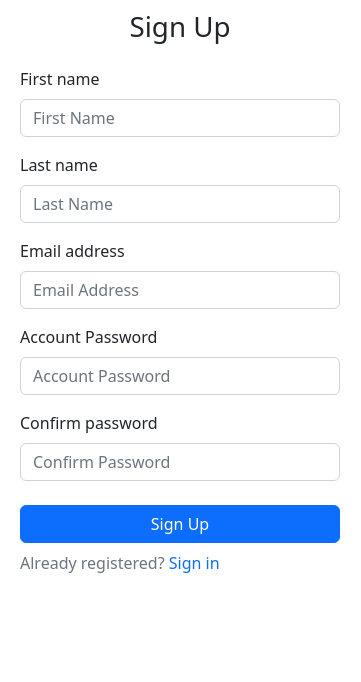
Testing SignUp component › Testing when typing a not valid Password it should shows 'Password should ...'
Type "blabla" into the password field with placeholder "Account Password" at (180, 376), box [20,357,340,395]
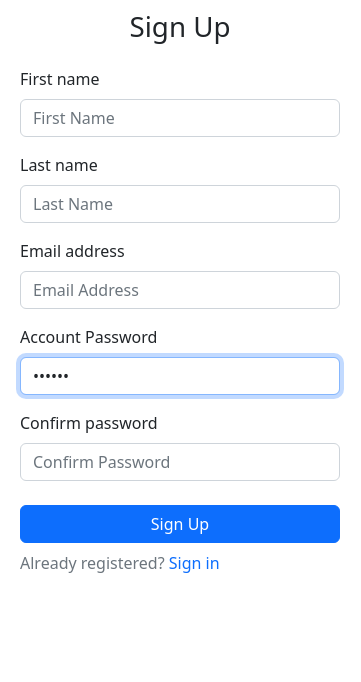
Click the button "Sign Up" at (180, 524), box [20,505,340,543]
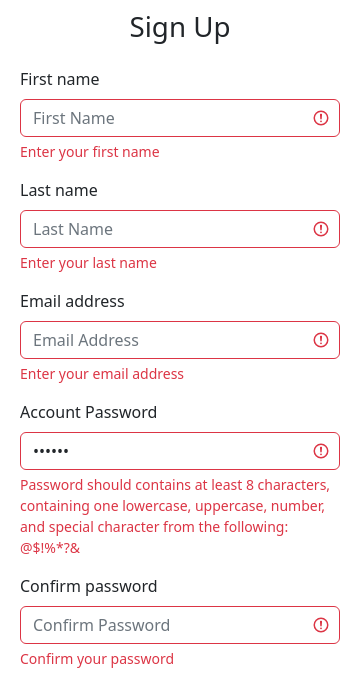
Expected: the text "Password should" is shown, [20,475,330,557]
